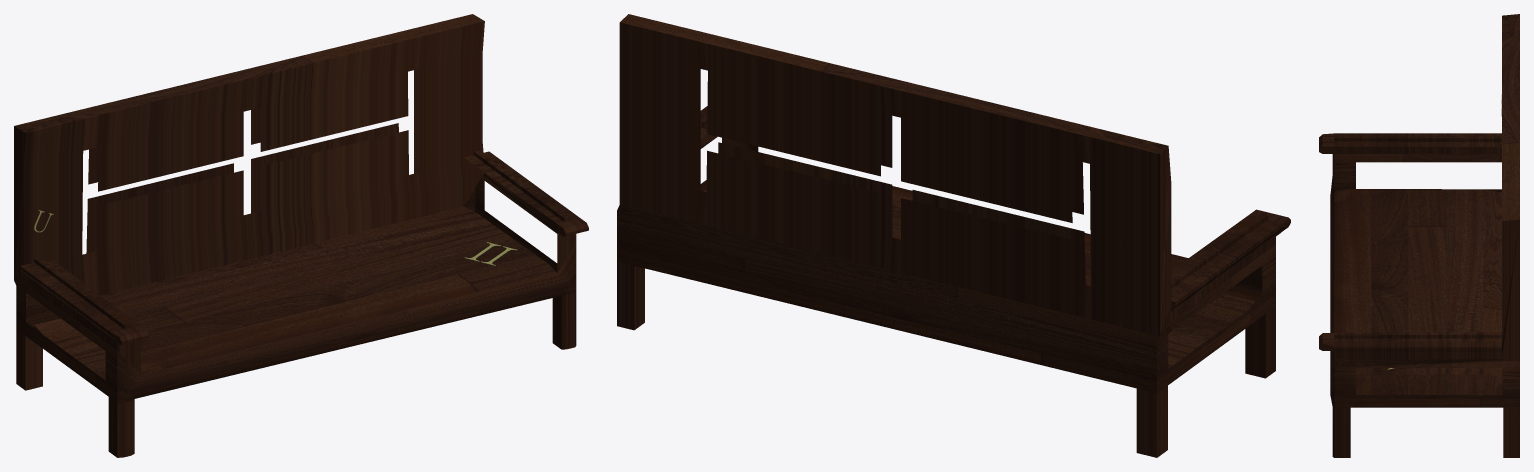
File: safa1.FBX
3 renders of one model, left to right at view 1: azimuth 30°, elevation 25°; view 2: azimuth 150°, elevation 25°; view 3: azimuth 270°, elevation 25°, orthographic. The views are drawn at different scales.
Parts seen in each view (by area): view 1: Box001; view 2: Box001; view 3: Box001.
Boxes of the visible parts, box(x1,y1,x2,y2) form: Box001: box(14, 14, 588, 457); Box001: box(617, 14, 1290, 457); Box001: box(1319, 14, 1519, 457).
Bounding box in the file's own units: 144 × 75.38 × 57.79.
